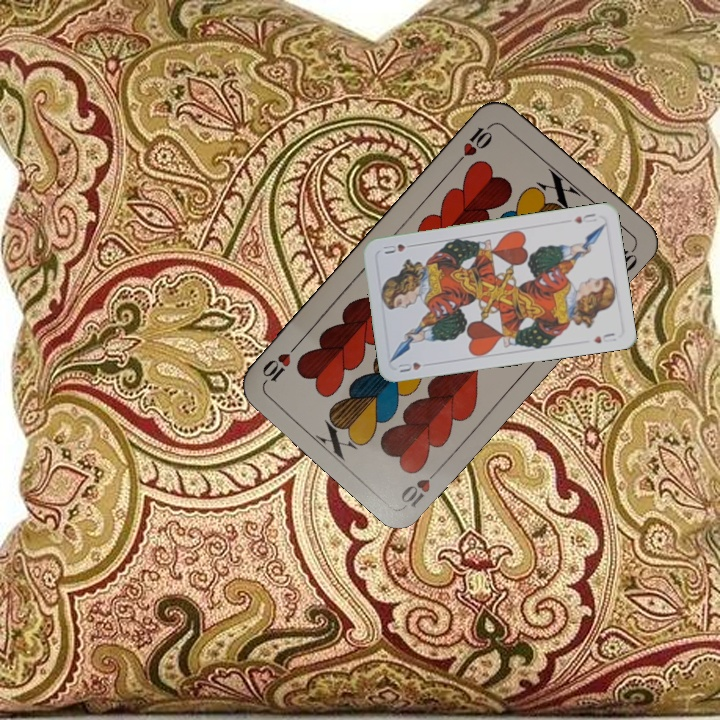H10: (396, 462, 446, 511), (453, 118, 498, 167)
HU: (569, 209, 599, 226), (394, 358, 423, 375)
